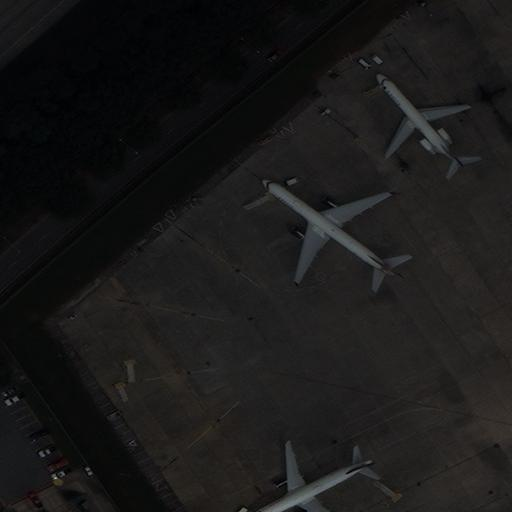Large Civil Transport: (259, 178, 395, 279)
Medium Civil Transport: (374, 71, 466, 170), (253, 443, 373, 512)
